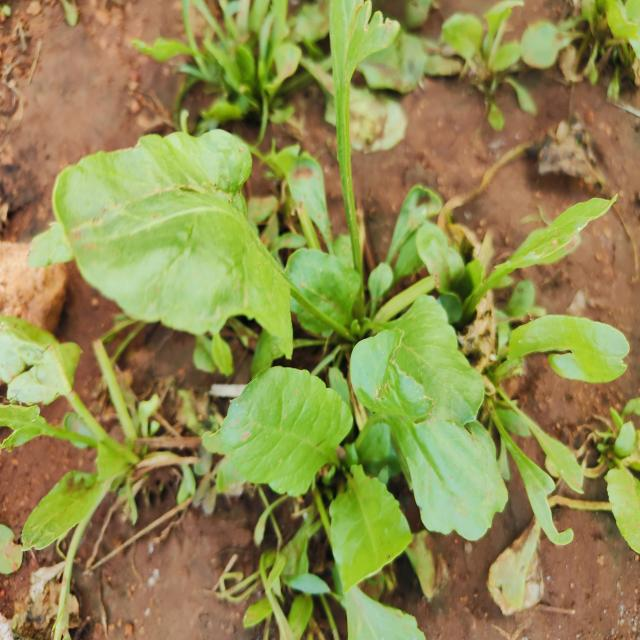half-leaf: (307, 454, 427, 602), (475, 390, 578, 557)
leaves: (41, 128, 319, 387), (356, 360, 527, 571), (193, 350, 378, 502), (448, 191, 618, 305), (358, 305, 478, 431), (26, 452, 154, 564), (501, 317, 640, 404), (272, 240, 364, 350)
